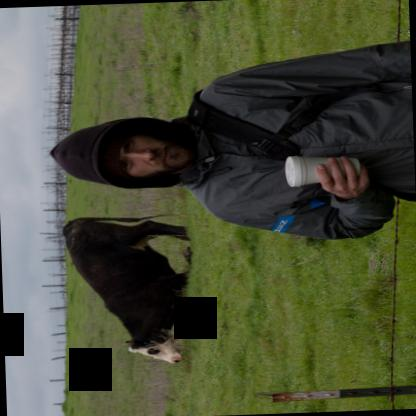backpack: (184, 82, 362, 162)
